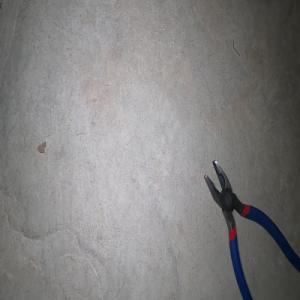Pliers: (203, 159, 300, 300)
